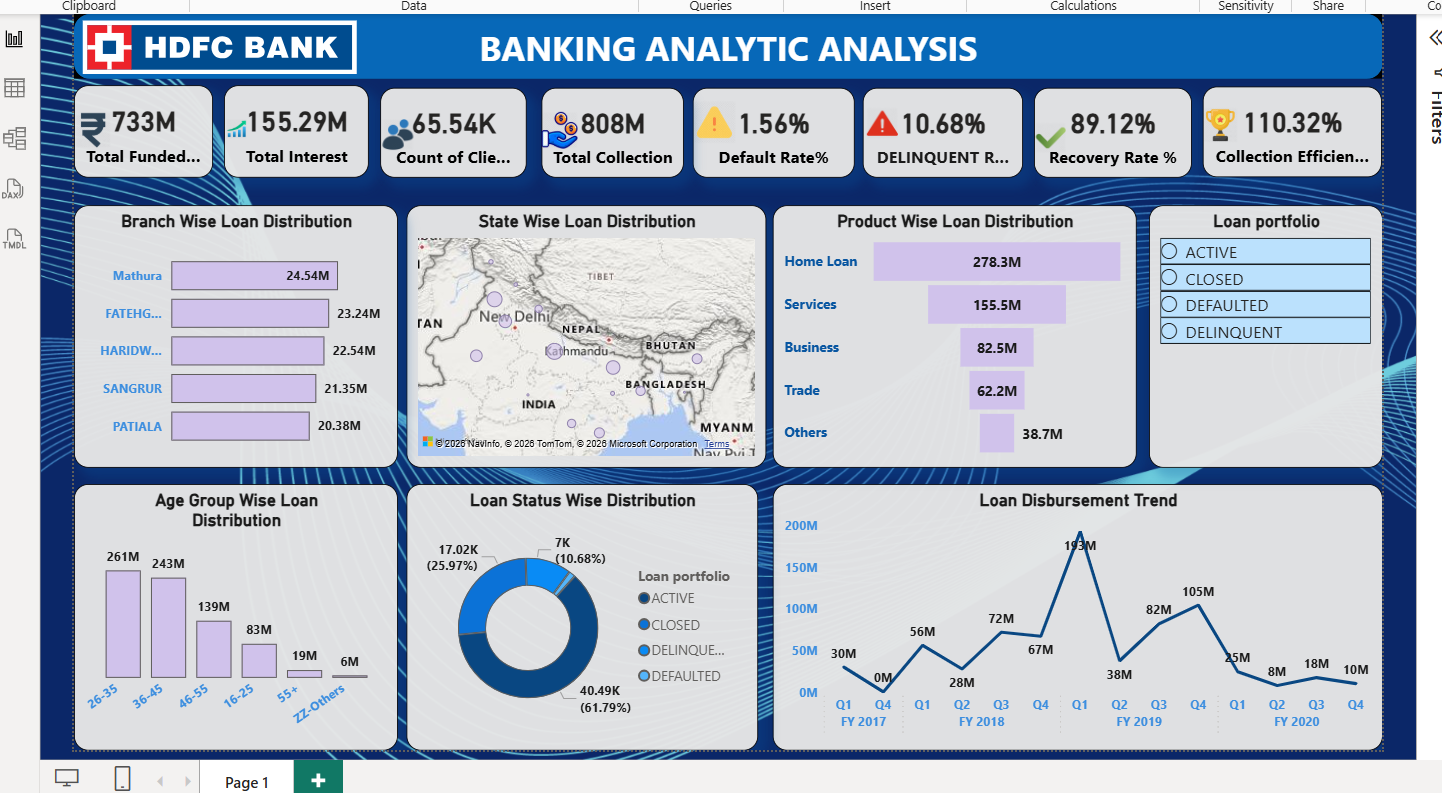

The dashboard page shown, as its layout file describes it:
{"tool":"tableau","page":{"name":"Dashboard 1","canvas":[1000,1000],"units":"permille","ordinal":0},"visuals":[{"type":"text","box":[6.1,11.8,959.8,114]},{"type":"image","param":"Image/hdfc-bank-logo.svg","box":[5.5,12.9,300.4,111.6]},{"type":"worksheet","title":"loans kpi","mark":"Automatic","box":[158.4,136.3,101.8,110.5]},{"type":"worksheet","title":"interest kpi","mark":"Automatic","box":[262,136.3,104.2,110.5]},{"type":"worksheet","title":"funded amount kpi","mark":"Automatic","box":[26.2,137.5,128,108.1]},{"type":"worksheet","title":"collection kpi","mark":"Automatic","box":[368.7,137.5,106.6,110.5]},{"type":"worksheet","title":"default rate kpi","mark":"Automatic","box":[477.2,137.5,106,111.6]},{"type":"worksheet","title":"delinq kpi","mark":"Automatic","box":[585,137.5,96.9,114]},{"type":"worksheet","title":"efficency kpi","mark":"Automatic","box":[821.5,138.7,142.6,115.2]},{"type":"worksheet","title":"recovery kpi","mark":"Automatic","box":[684.3,139.8,135.3,112.8]},{"type":"filter","title":"status wise","param":"[federated.0dbyfgs1462ncj14trztu01et58l].[none:Loan Portfolio:nk]","box":[887.3,318.4,97.5,220.9]},{"type":"worksheet","title":"age group","mark":"Automatic","rows":["Loan Amount"],"cols":["Age Group"],"box":[209,320.8,196.8,332.6]},{"type":"worksheet","title":"product wise","mark":"Automatic","rows":["Purpose Category"],"cols":["Loan Amount"],"box":[407.7,320.8,251.1,332.6]},{"type":"worksheet","title":"status wise","mark":"Automatic","rows":["Client id"],"cols":["Loan Portfolio"],"box":[659.4,320.8,227.3,337.2]},{"type":"worksheet","title":"branch wise","mark":"Automatic","box":[0.6,322,207.2,332.6]},{"type":"filter","title":"age group","param":"[federated.0dbyfgs1462ncj14trztu01et58l].[none:Age Group:nk]","box":[886.6,539.4,97.5,257.3]},{"type":"worksheet","title":"trend","mark":"Line","rows":["Loan Amount"],"cols":["Calculation_0716097325158405"],"box":[409.5,655.7,476.5,331.4]},{"type":"worksheet","title":"religion wise","mark":"Pie","box":[0.6,660.4,207.2,333.7]},{"type":"worksheet","title":"state wise","mark":"Automatic","box":[208.4,660.4,200.5,330.2]},{"type":"legend","title":"branch wise","param":"[federated.0dbyfgs1462ncj14trztu01et58l].[sum:Loan Amount:qk]","box":[888.5,793.2,96.9,191.5]}]}

Visuals, with their boxes on the dashboard's canvas, which has no fixed pixel size, in thousandths of its width and height (x1, y1, x2, y2). These are canvas units, not pixel positions in the 1442x793 screenshot, which may show the page scaled, cropped or inside an application window:
text: box(6, 12, 966, 126)
image: box(6, 13, 306, 124)
"loans kpi" worksheet: box(158, 136, 260, 247)
"interest kpi" worksheet: box(262, 136, 366, 247)
"funded amount kpi" worksheet: box(26, 138, 154, 246)
"collection kpi" worksheet: box(369, 138, 475, 248)
"default rate kpi" worksheet: box(477, 138, 583, 249)
"delinq kpi" worksheet: box(585, 138, 682, 252)
"efficency kpi" worksheet: box(822, 139, 964, 254)
"recovery kpi" worksheet: box(684, 140, 820, 253)
"status wise" filter: box(887, 318, 985, 539)
"age group" worksheet: box(209, 321, 406, 653)
"product wise" worksheet: box(408, 321, 659, 653)
"status wise" worksheet: box(659, 321, 887, 658)
"branch wise" worksheet: box(1, 322, 208, 655)
"age group" filter: box(887, 539, 984, 797)
"trend" worksheet (Line marks): box(410, 656, 886, 987)
"religion wise" worksheet (Pie marks): box(1, 660, 208, 994)
"state wise" worksheet: box(208, 660, 409, 991)
"branch wise" legend: box(888, 793, 985, 985)
